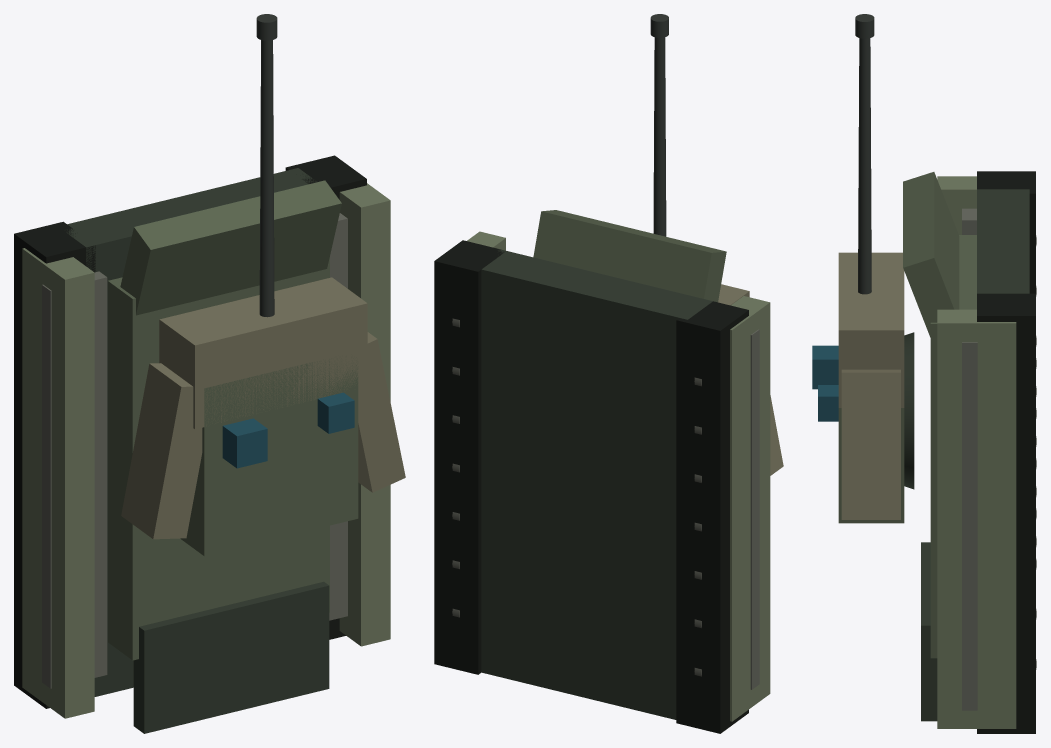
3 views of the same model, side by side, from view 1: azimuth 30°, elevation 25°; view 2: azimuth 150°, elevation 25°; view 3: azimuth 270°, elevation 25° (orthographic). The views are drawn at different scales.
Visible parts, largest first — view 1: left_polish_skirt, leopard2pl_hull_upper, turret_core, rear_engine_grille, polish_modular_front_armor, angled_nose, right_polish_skirt, left_side_module, left_track_guard, leopard2pl_hull_lower, left_track_rubber, right_side_module (+5 smaller); view 2: leopard2pl_hull_lower, left_track_rubber, right_track_rubber, left_polish_skirt, angled_nose, left_track_guard, barrel_tube, left_side_module; view 3: right_polish_skirt, right_track_rubber, right_side_module, polish_modular_front_armor, angled_nose, right_track_guard, leopard2pl_hull_lower, leopard2pl_hull_upper, barrel_tube, rear_engine_grille, left_track_rubber, turret_ring (+6 smaller).
Boxes of the visible parts, <box> form: left_polish_skirt: <box>22,248,94,718</box>; leopard2pl_hull_upper: <box>108,257,329,660</box>; turret_core: <box>180,356,358,556</box>; rear_engine_grille: <box>133,581,329,733</box>; polish_modular_front_armor: <box>159,277,367,429</box>; angled_nose: <box>120,180,341,315</box>; right_polish_skirt: <box>339,183,390,646</box>; left_side_module: <box>121,363,202,539</box>; left_track_guard: <box>42,271,107,688</box>; leopard2pl_hull_lower: <box>66,168,316,696</box>; left_track_rubber: <box>14,221,95,708</box>; right_side_module: <box>358,332,405,492</box>; leopard2pl_hull_lower: <box>481,249,712,719</box>; left_track_rubber: <box>676,301,748,733</box>; right_track_rubber: <box>434,240,505,674</box>; left_polish_skirt: <box>730,296,770,721</box>; angled_nose: <box>533,210,726,302</box>; left_track_guard: <box>750,329,759,689</box>; barrel_tube: <box>653,37,666,236</box>; left_side_module: <box>770,395,783,475</box>; right_polish_skirt: <box>937,309,1016,728</box>; right_track_rubber: <box>977,293,1035,733</box>; right_side_module: <box>841,369,900,519</box>; polish_modular_front_armor: <box>838,252,904,407</box>; angled_nose: <box>903,172,959,337</box>; right_track_guard: <box>962,342,977,710</box>; leopard2pl_hull_lower: <box>977,189,1029,293</box>; leopard2pl_hull_upper: <box>930,235,976,658</box>; barrel_tube: <box>858,38,871,294</box>; rear_engine_grille: <box>921,542,937,721</box>; left_track_rubber: <box>977,171,1035,293</box>; turret_ring: <box>904,332,914,489</box>.
Bounding box in the file's own units: 53.2 × 111 × 34.1.
